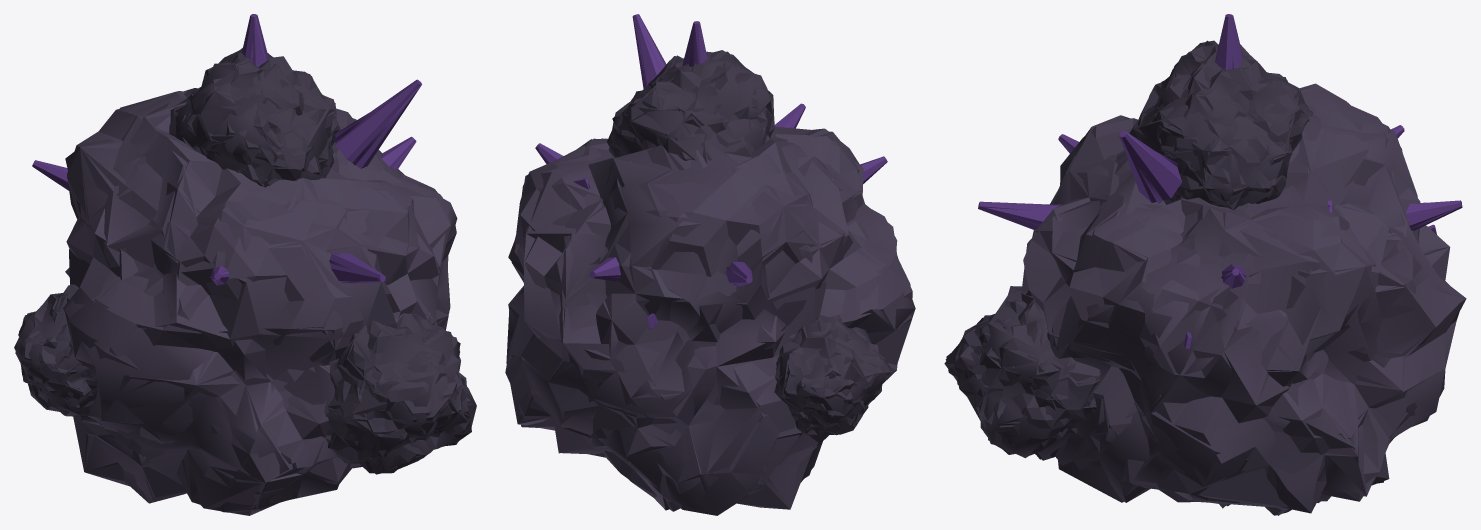
The model's file is render.glb.
The picture shows the model from 3 angles, left to right: view 1: azimuth 30°, elevation 25°; view 2: azimuth 150°, elevation 25°; view 3: azimuth 270°, elevation 25°; orthographic projection. The views are drawn at different scales.
Parts seen in each view (by area): view 1: LOD0_Stone, LOD2_Stone, LOD1_Stone, LOD0_Stone_deep, LOD2_Stone_deep, LOD1_Stone_deep, LOD0_CANOPY, LOD1_CANOPY; view 2: LOD2_Stone, LOD0_Stone, LOD1_Stone, LOD0_Stone_deep, LOD2_Stone_deep, LOD1_Stone_deep, LOD0_CANOPY, LOD1_CANOPY; view 3: LOD2_Stone, LOD0_Stone, LOD1_Stone, LOD0_Stone_deep, LOD1_Stone_deep, LOD2_Stone_deep, LOD0_CANOPY, LOD1_CANOPY.
Part boxes in pixels (<box>): LOD0_Stone: <box>63,91,456,512</box>; LOD2_Stone: <box>64,88,457,515</box>; LOD1_Stone: <box>66,91,456,512</box>; LOD0_Stone_deep: <box>16,50,472,473</box>; LOD2_Stone_deep: <box>14,55,476,471</box>; LOD1_Stone_deep: <box>15,48,475,474</box>; LOD0_CANOPY: <box>32,14,421,285</box>; LOD1_CANOPY: <box>32,15,421,284</box>; LOD2_Stone: <box>506,126,915,515</box>; LOD0_Stone: <box>505,128,911,515</box>; LOD1_Stone: <box>505,135,912,514</box>; LOD0_Stone_deep: <box>609,50,889,436</box>; LOD2_Stone_deep: <box>608,51,889,434</box>; LOD1_Stone_deep: <box>607,51,890,435</box>; LOD0_CANOPY: <box>535,14,887,328</box>; LOD1_CANOPY: <box>536,15,887,285</box>; LOD2_Stone: <box>1021,89,1462,515</box>; LOD0_Stone: <box>1023,83,1466,515</box>; LOD1_Stone: <box>1029,84,1463,515</box>; LOD0_Stone_deep: <box>946,40,1312,459</box>; LOD1_Stone_deep: <box>944,43,1312,460</box>; LOD2_Stone_deep: <box>945,40,1309,459</box>; LOD0_CANOPY: <box>978,14,1462,349</box>; LOD1_CANOPY: <box>978,15,1461,280</box>.
Size of what is drawn, in the model's own units: 15.2 by 17.25 by 16.41.
